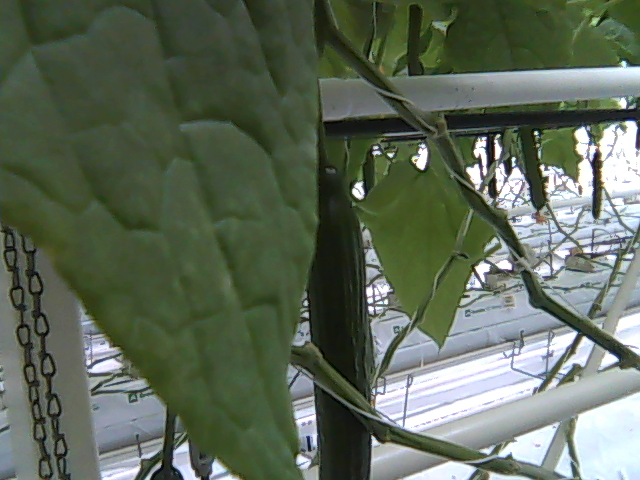concombre: (303, 158, 379, 480)
